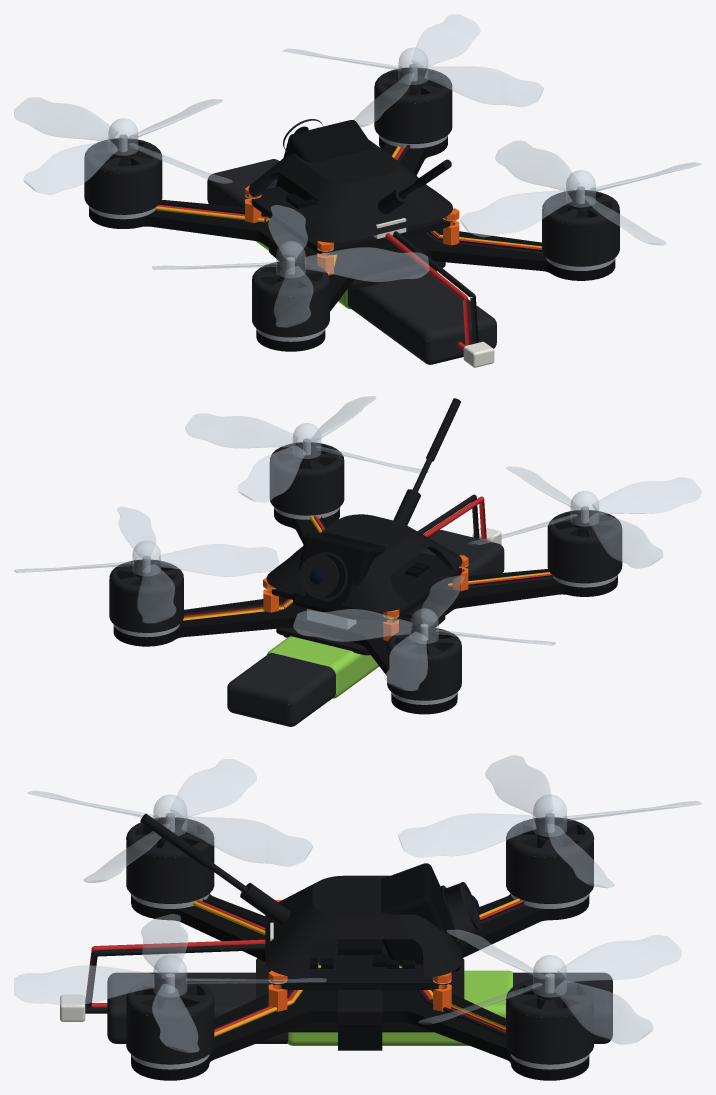
Rendered from frame-2.glb.
3 views of the same model, one above another, from view 1: azimuth 30°, elevation 25°; view 2: azimuth 150°, elevation 25°; view 3: azimuth 270°, elevation 25° (orthographic). The views are drawn at different scales.
Visible parts, largest first — view 1: frame, battery, canopy, propeller_front_left, propeller_rear_right, propeller_front_right, propeller_rear_left, flight_controller, motor_front_left, motor_rear_right, motor_front_right, motor_rear_left (+2 smaller); view 2: frame, battery, propeller_rear_left, propeller_rear_right, propeller_front_left, canopy, propeller_front_right, motor_front_right, motor_rear_left, flight_controller, motor_rear_right, motor_front_left (+3 smaller); view 3: frame, canopy, battery, propeller_front_right, propeller_front_left, propeller_rear_right, propeller_rear_left, flight_controller, motor_rear_right, motor_front_right, motor_front_left, motor_rear_left (+3 smaller).
Boxes of the visible parts, <box> form: frame: <box>89,136,615,351</box>; battery: <box>207,159,496,367</box>; canopy: <box>248,140,452,242</box>; propeller_front_left: <box>14,97,232,194</box>; propeller_rear_right: <box>460,140,701,244</box>; propeller_front_right: <box>283,14,543,126</box>; propeller_rear_left: <box>152,205,429,327</box>; flight_controller: <box>245,185,478,345</box>; motor_front_left: <box>84,134,270,222</box>; motor_rear_right: <box>426,186,619,270</box>; motor_front_right: <box>374,63,452,162</box>; motor_rear_left: <box>252,254,337,341</box>; frame: <box>113,508,617,714</box>; battery: <box>227,527,504,726</box>; propeller_rear_left: <box>468,466,701,568</box>; propeller_rear_right: <box>185,396,428,502</box>; propeller_front_left: <box>293,576,555,690</box>; canopy: <box>266,489,462,611</box>; propeller_front_right: <box>14,507,278,622</box>; motor_front_right: <box>109,556,292,637</box>; motor_rear_left: <box>444,506,622,590</box>; flight_controller: <box>263,494,486,640</box>; motor_rear_right: <box>269,438,344,532</box>; motor_front_left: <box>379,621,461,704</box>; frame: <box>131,894,589,1080</box>; canopy: <box>240,875,461,977</box>; battery: <box>60,970,612,1045</box>; propeller_front_right: <box>418,930,681,1044</box>; propeller_front_left: <box>398,755,701,887</box>; propeller_rear_right: <box>14,914,326,1052</box>; propeller_rear_left: <box>27,759,313,882</box>; flight_controller: <box>85,900,451,1011</box>; motor_rear_right: <box>126,973,302,1069</box>; motor_front_right: <box>400,963,594,1069</box>; motor_front_left: <box>479,813,594,924</box>; motor_rear_left: <box>126,813,265,935</box>.
Bounding box in the file's own units: 0.1089 × 0.0386 × 0.1089.
